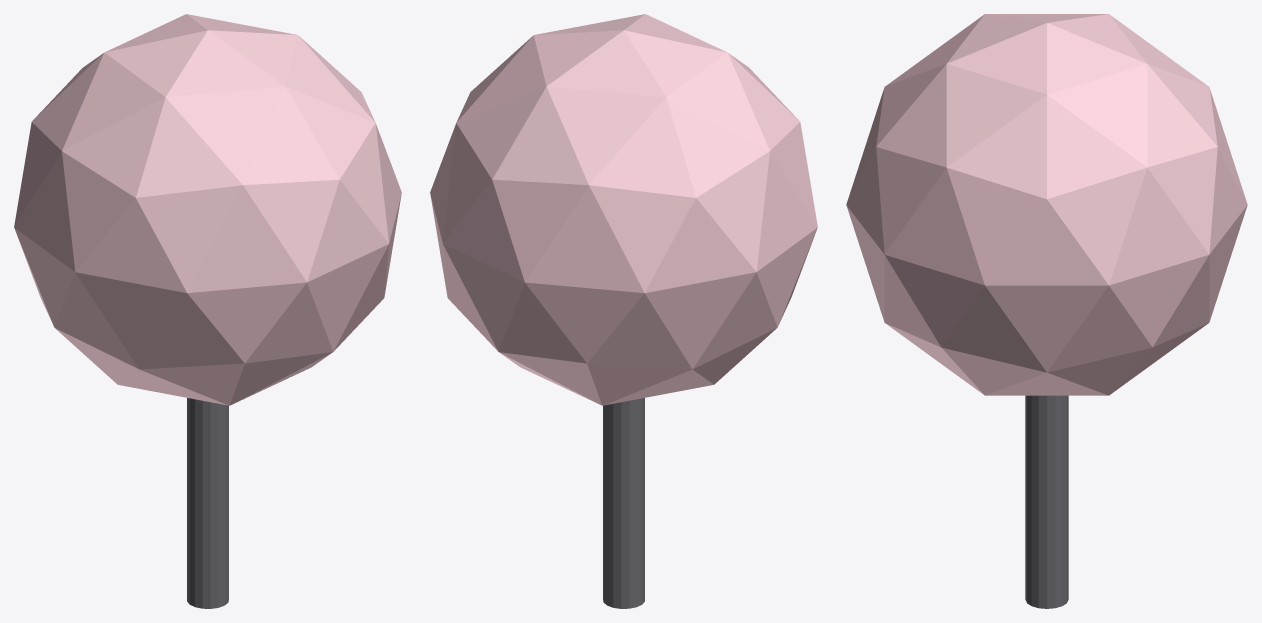
The model's file is tree_medium.glb.
3 renders of one model, left to right at view 1: azimuth 30°, elevation 25°; view 2: azimuth 150°, elevation 25°; view 3: azimuth 270°, elevation 25°, orthographic.
Visible parts, largest first — view 1: tree; view 2: tree; view 3: tree.
Part boxes in pixels (x1,y1,x2,y2): tree: (14, 14, 401, 608); tree: (430, 14, 817, 608); tree: (846, 14, 1247, 608).
Size of the model in its own units: 2.66 by 4.44 by 2.8.
